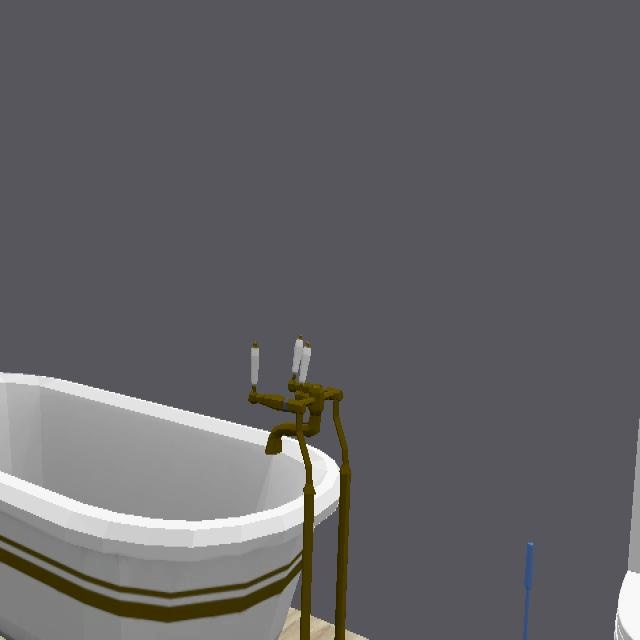bathtube: (0, 374, 305, 638), (309, 447, 340, 522)
toilet: (615, 420, 640, 639)
